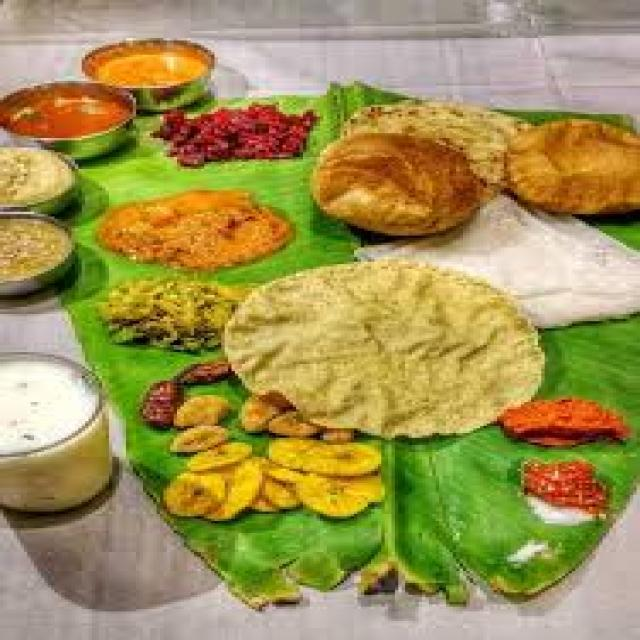curd: (0, 352, 116, 464)
dal: (3, 216, 79, 294), (0, 147, 80, 215)
papad: (209, 261, 556, 428)
pickle: (485, 394, 633, 447), (510, 457, 621, 520)
raita: (2, 354, 115, 458)
sambar-rasam: (5, 79, 135, 144)
veg-fry: (78, 185, 303, 272)
